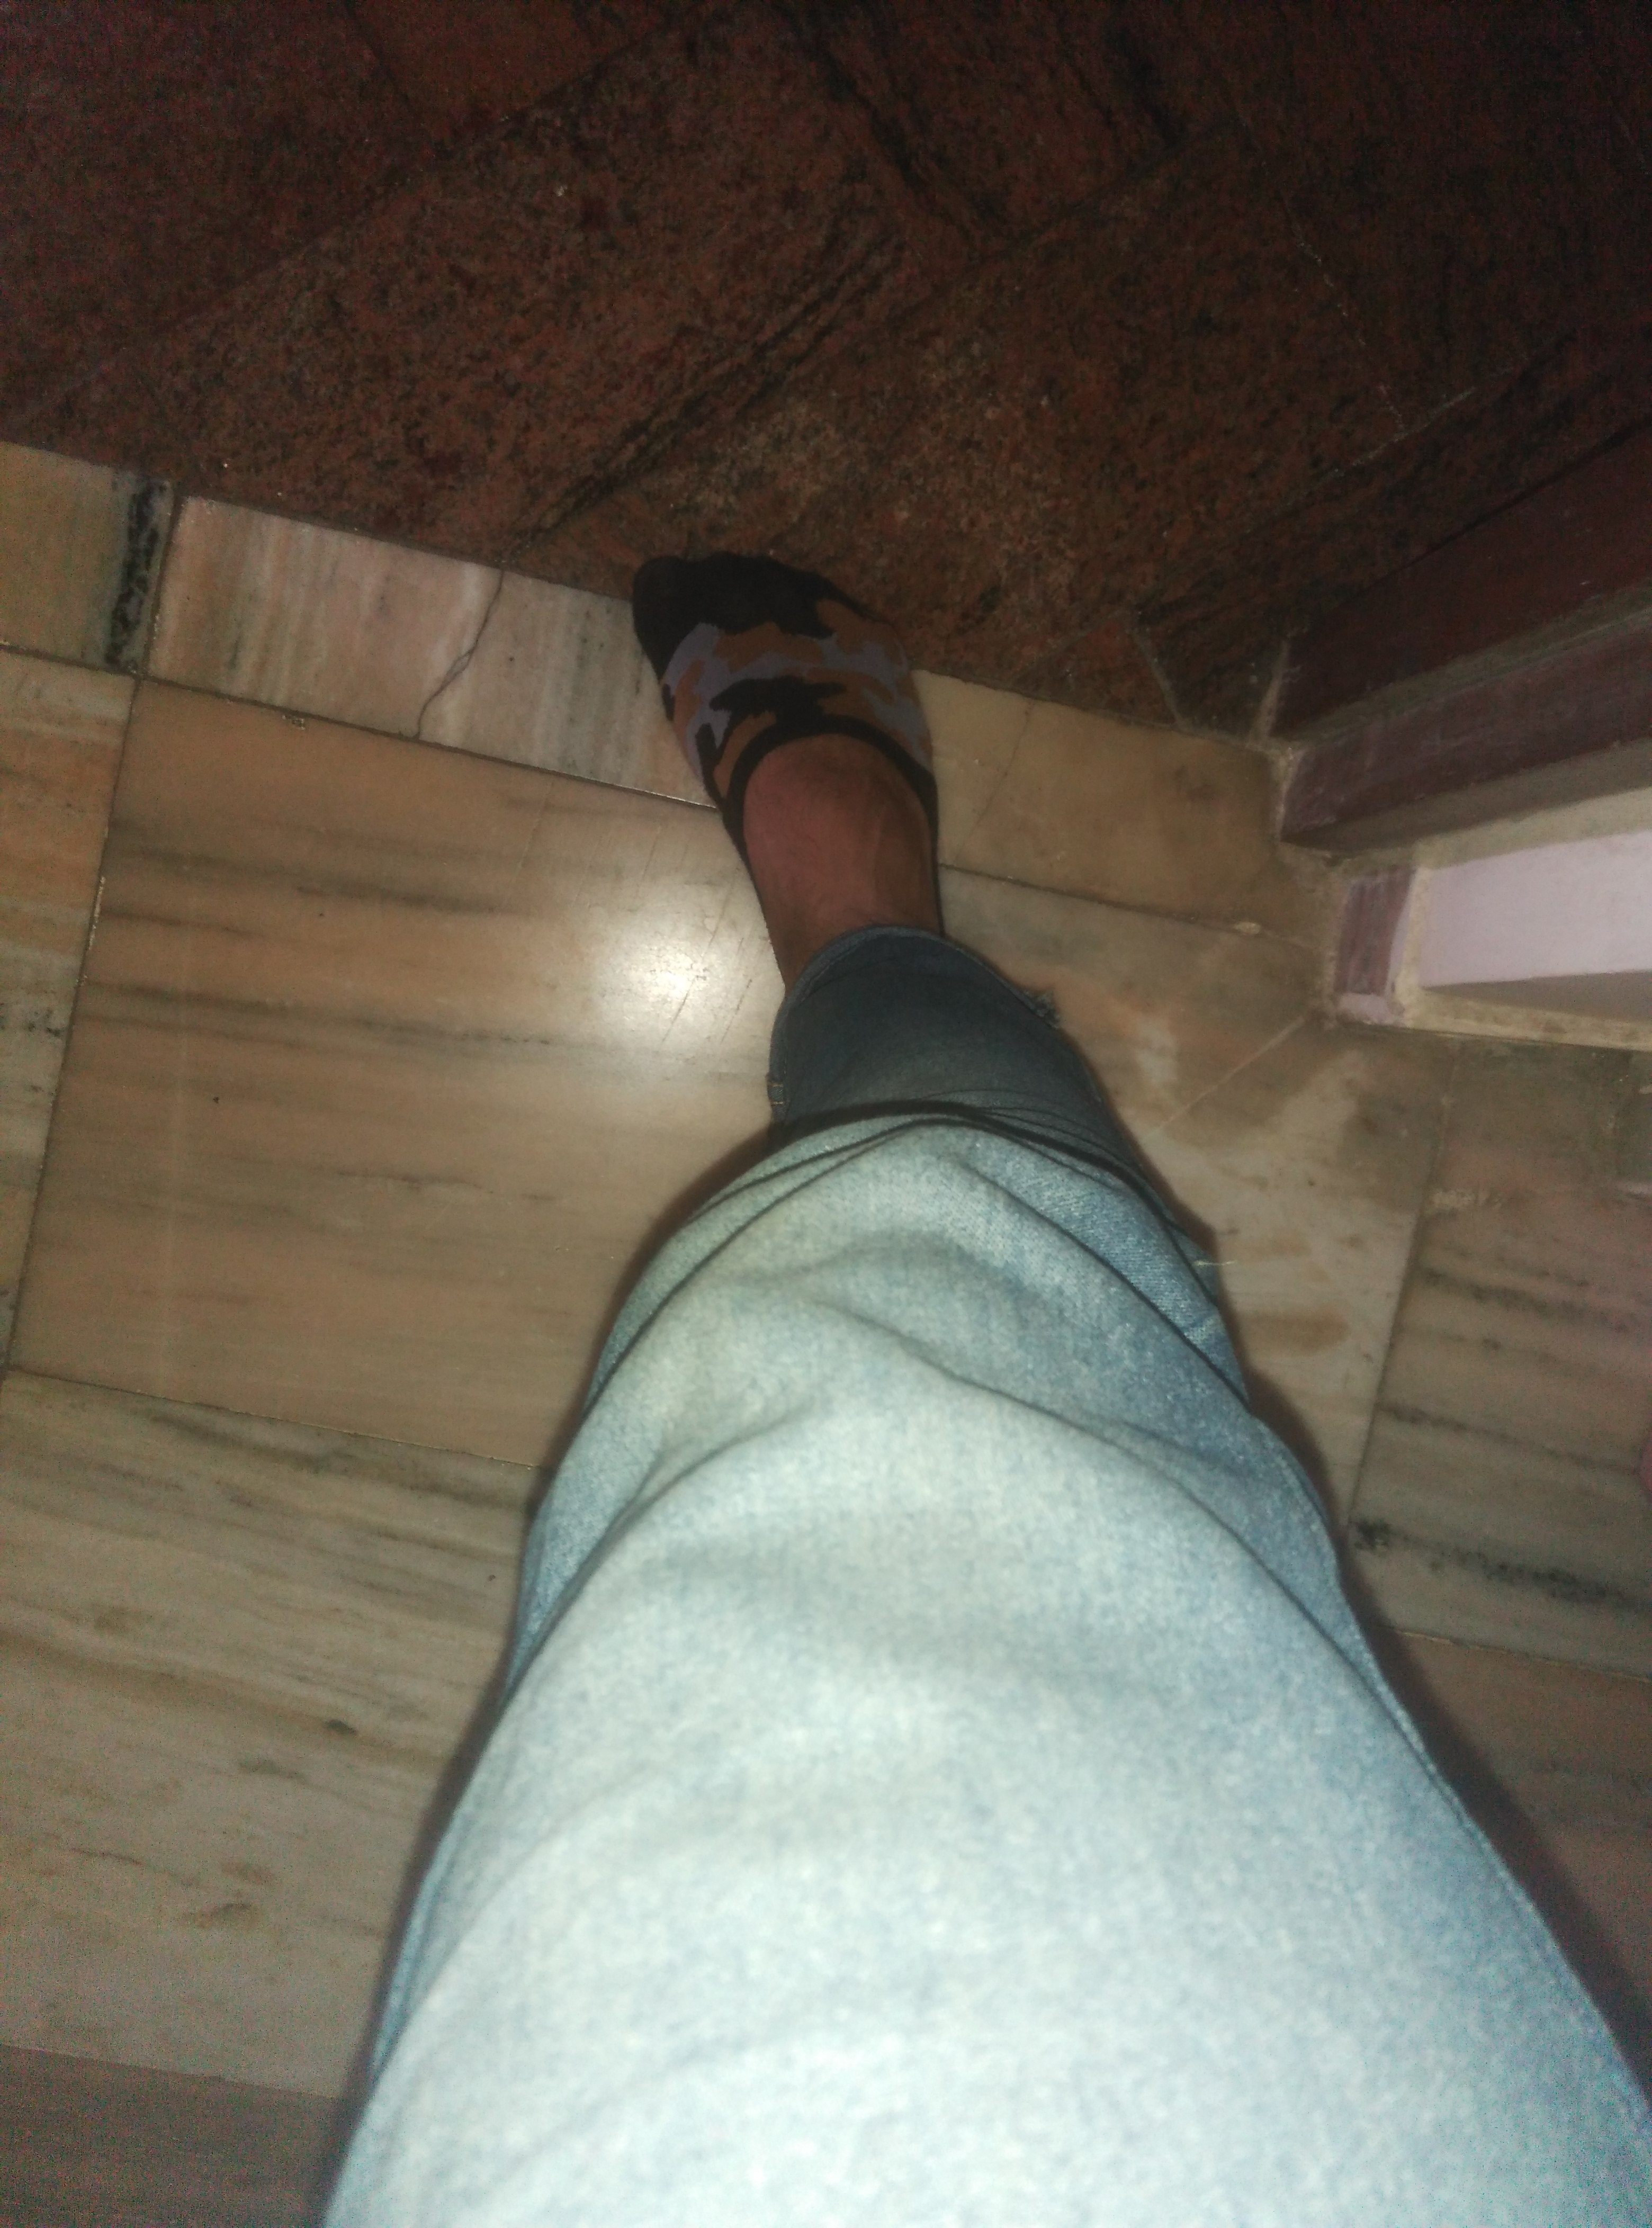feet: (578, 538, 977, 1008)
